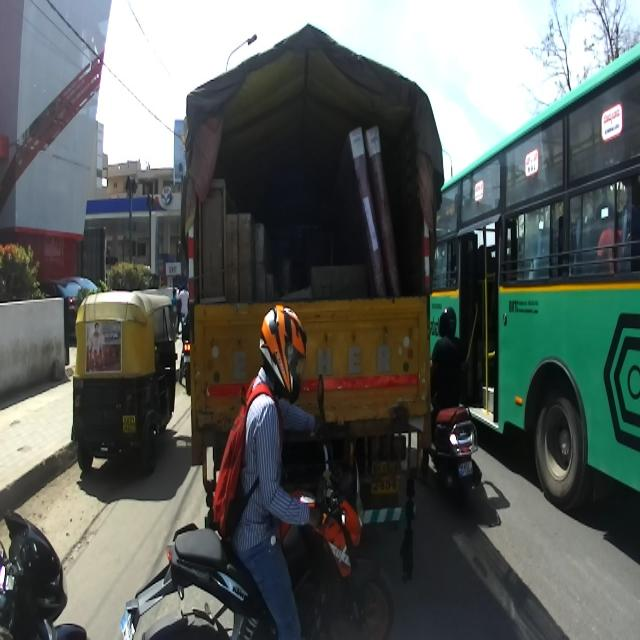autorickshaw: (72, 289, 178, 475)
bus: (426, 34, 638, 503)
motorcycle: (120, 373, 395, 639), (0, 507, 88, 639)
scooter: (428, 356, 482, 511)
truck: (180, 10, 444, 610)
